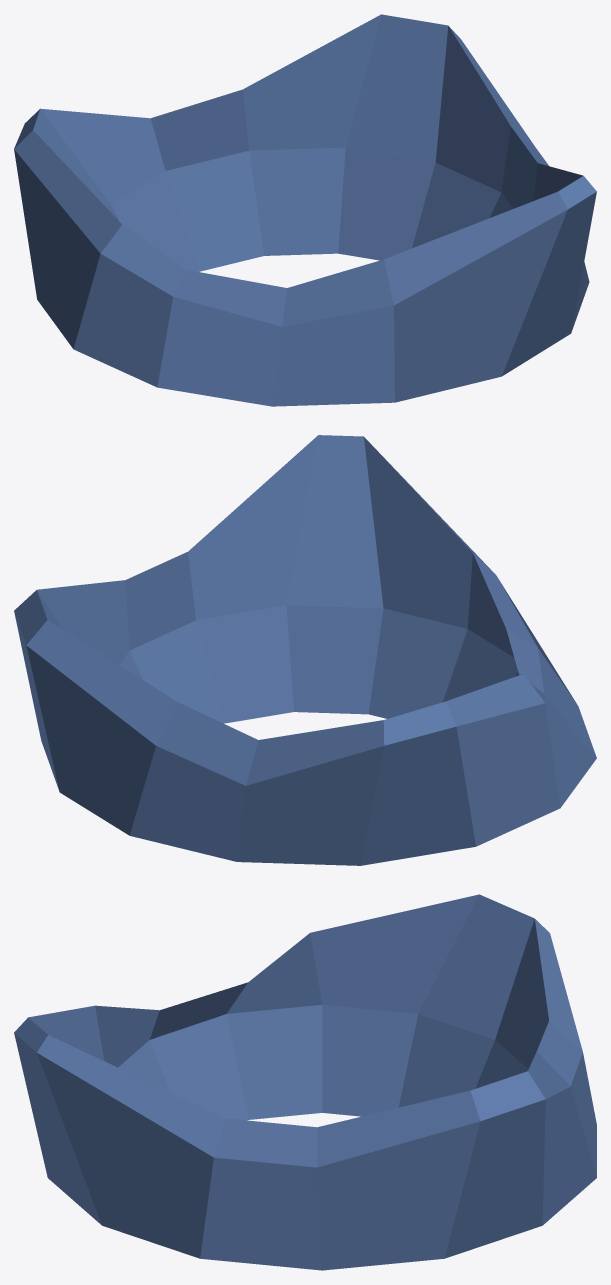
Rendered from WE01_Splash_Stages.fbx.
3 views of the same model, one above another, from view 1: azimuth 30°, elevation 25°; view 2: azimuth 150°, elevation 25°; view 3: azimuth 270°, elevation 25° (orthographic).
Parts seen in each view (by area): view 1: SplashMedium; view 2: SplashMedium; view 3: SplashMedium.
Part boxes in pixels (bbox=[...]): SplashMedium: bbox=[14, 14, 596, 406]; SplashMedium: bbox=[14, 435, 596, 865]; SplashMedium: bbox=[14, 894, 596, 1270].
Bounding box in the file's own units: 1.69 × 0.7166 × 1.75.
